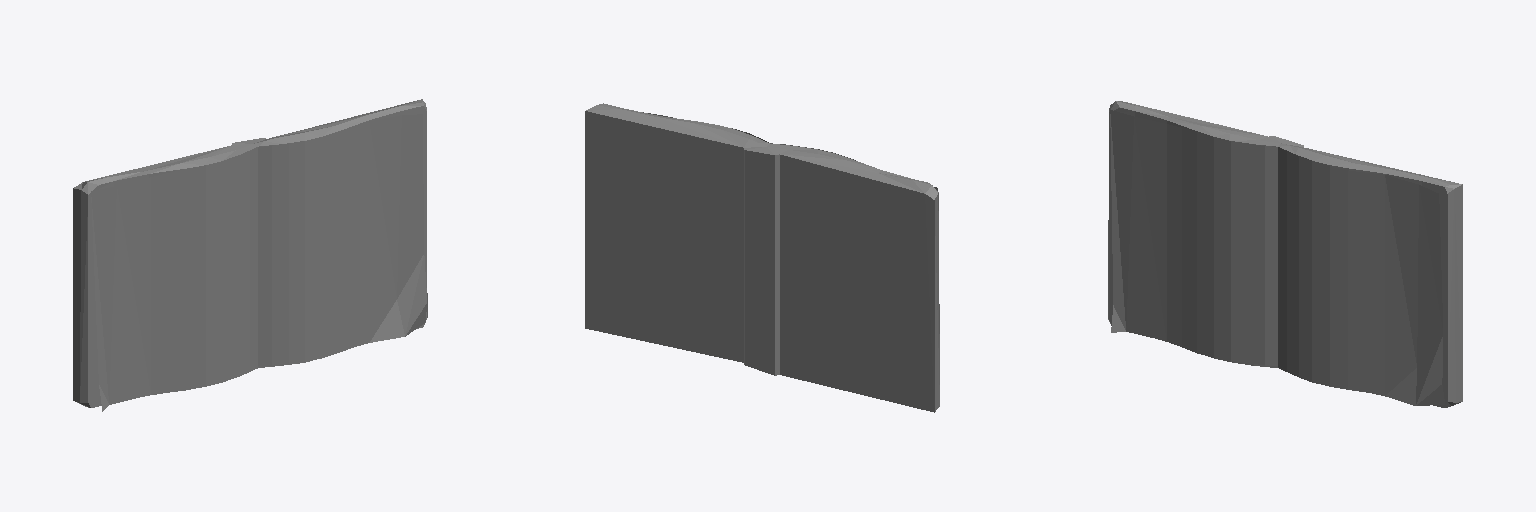
Rendered from elusivebook.obj.
3 views of the same model, side by side, from view 1: azimuth 30°, elevation 25°; view 2: azimuth 150°, elevation 25°; view 3: azimuth 330°, elevation 25° (orthographic).
Visible parts, largest first — view 1: sm_0; view 2: sm_0; view 3: sm_0.
Boxes of the visible parts, <box> form: sm_0: <box>73,99,427,411</box>; sm_0: <box>585,103,939,412</box>; sm_0: <box>1108,101,1462,407</box>.
Bounding box in the file's own units: 51.49 × 31.9 × 4.29.